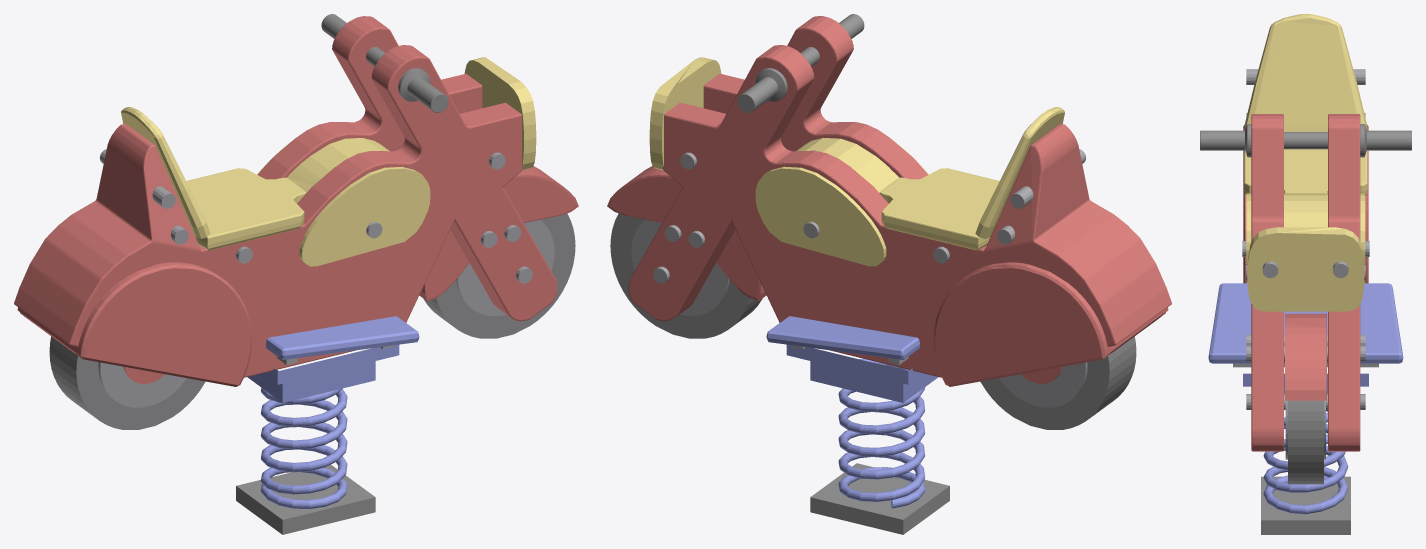
File: sweethome3d-blendswap-cc-0-motorbike-122.glb
3 views of the same model, side by side, from view 1: azimuth 30°, elevation 25°; view 2: azimuth 150°, elevation 25°; view 3: azimuth 270°, elevation 25° (orthographic). The views are drawn at different scales.
Parts seen in each view (by area): view 1: Motorbike; view 2: Motorbike; view 3: Motorbike.
Boxes of the visible parts, x1,y1,x2,y2 form: Motorbike: (14, 14, 578, 534); Motorbike: (607, 14, 1171, 534); Motorbike: (1200, 14, 1411, 534).
Bounding box in the file's own units: 91.44 × 74.6 × 32.98.
